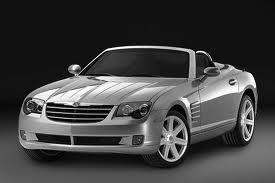car: (14, 48, 256, 164)
